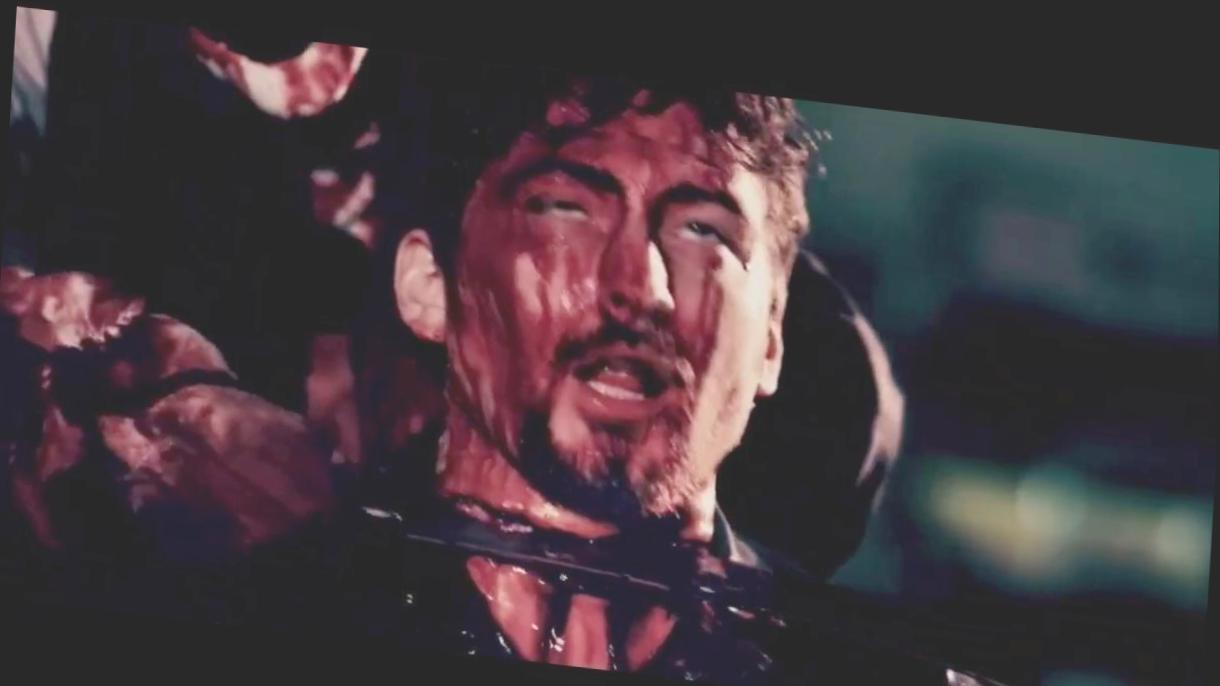Fire: (9, 71, 733, 661), (190, 24, 370, 119), (308, 160, 375, 221)
